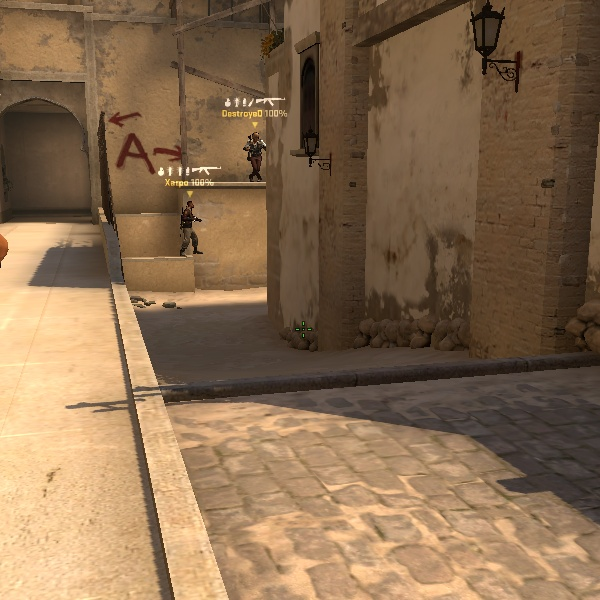t_body: (178, 199, 205, 257), (240, 129, 266, 180)
t_head: (250, 130, 264, 144), (184, 199, 197, 211)
